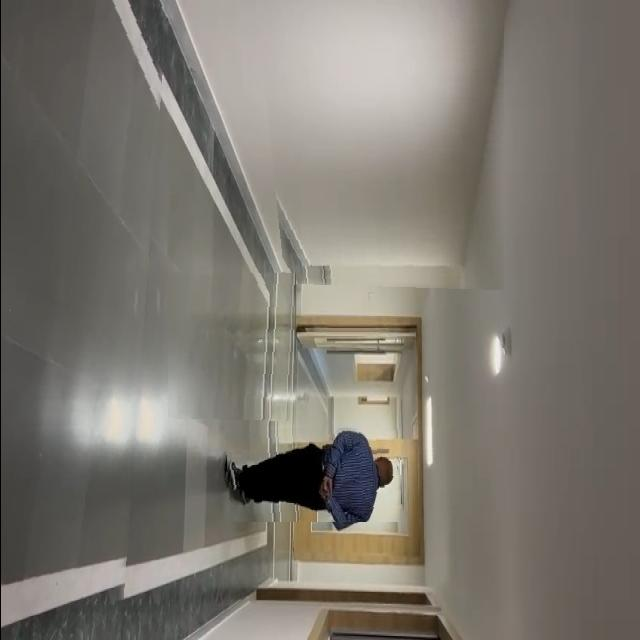floor: (0, 0, 167, 640), (167, 274, 295, 422)
moving_object: (223, 422, 400, 522)
wall: (254, 0, 503, 291)
